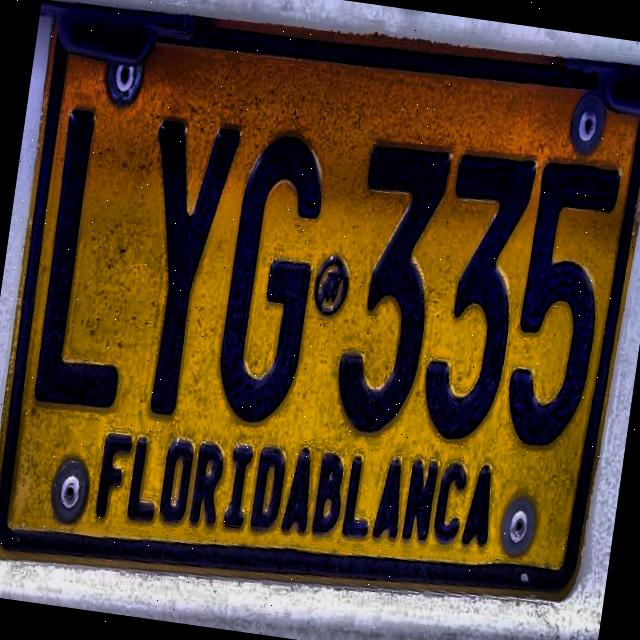3: (329, 136, 454, 438), (417, 146, 538, 450), (502, 153, 622, 454)
G: (208, 126, 334, 431)
L: (25, 96, 160, 418)
Y: (120, 112, 244, 424)
